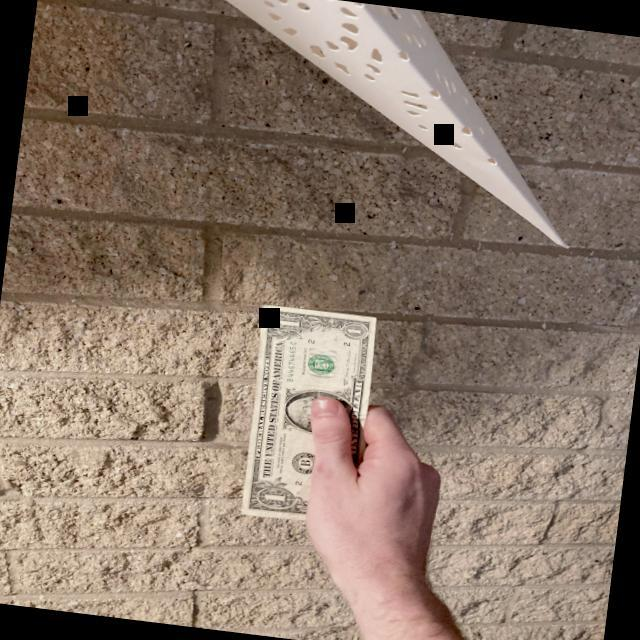one: (234, 302, 380, 529)
